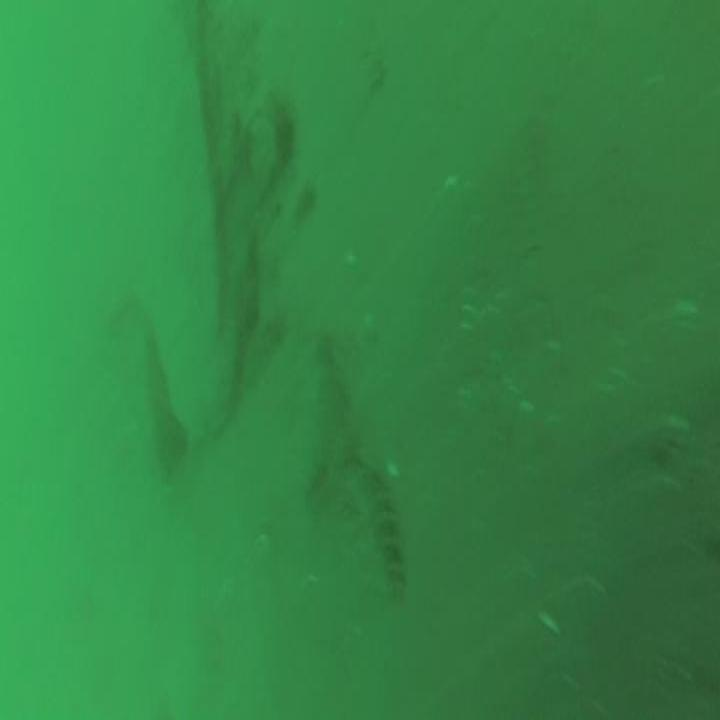holothurian: (356, 450, 406, 601), (237, 308, 286, 388), (288, 180, 318, 228)
